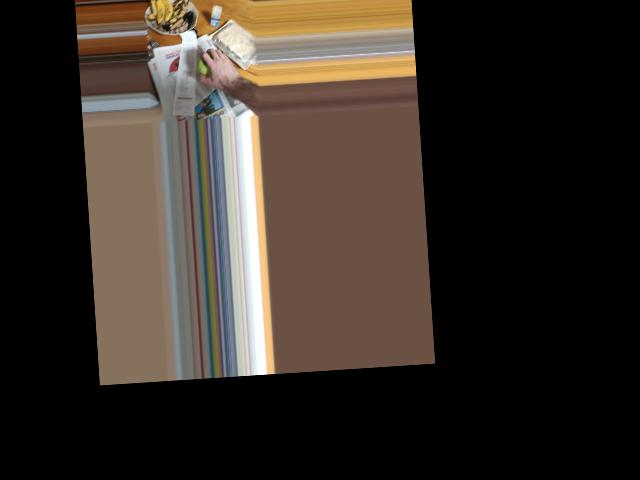apple: (197, 51, 224, 80)
